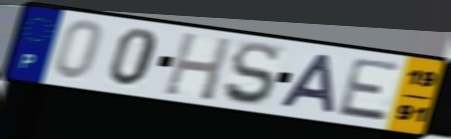0: (50, 18, 106, 83), (105, 26, 159, 88)
A: (277, 52, 338, 116)
E: (334, 56, 405, 124)
H: (161, 29, 235, 104)
S: (221, 40, 281, 108)
